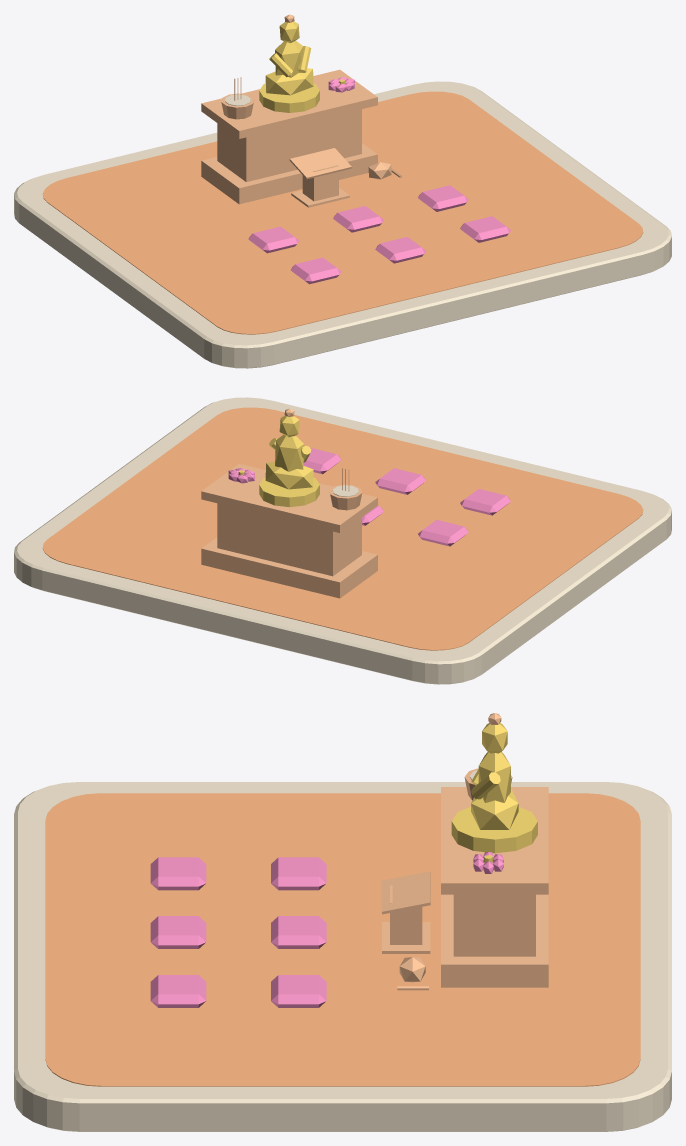
The picture shows the model from 3 angles, top to bottom: view 1: azimuth 30°, elevation 25°; view 2: azimuth 150°, elevation 25°; view 3: azimuth 270°, elevation 25°; orthographic projection. The views are drawn at different scales.
Visible parts, largest first — view 1: COM-02 Floor Surface, COM-01 Rounded Base Direct, Altar, Top, Base, Reading top, Lotus base, Folded legs, Body, Meditation cushion, Meditation cushion.005, Meditation cushion.001 (+4 smaller); view 2: COM-02 Floor Surface, COM-01 Rounded Base Direct, Altar, Top, Base, Lotus base, Folded legs, Robe torso, Meditation cushion.004, Meditation cushion, Meditation cushion.003, Meditation cushion.005 (+1 smaller); view 3: COM-02 Floor Surface, COM-01 Rounded Base Direct, Top, Altar, Base, Lotus base, Meditation cushion.003, Meditation cushion, Meditation cushion.004, Meditation cushion.005, Meditation cushion.001, Meditation cushion.002 (+6 smaller).
Boxes of the visible parts, <box> form: COM-02 Floor Surface: <box>42,91,643,334</box>; COM-01 Rounded Base Direct: <box>14,81,671,368</box>; Altar: <box>217,109,361,181</box>; Top: <box>201,69,377,138</box>; Base: <box>201,143,377,204</box>; Reading top: <box>289,148,351,179</box>; Lotus base: <box>259,83,319,112</box>; Folded legs: <box>265,68,313,95</box>; Body: <box>302,165,338,201</box>; Meditation cushion: <box>248,226,299,253</box>; Meditation cushion.005: <box>460,216,510,242</box>; Meditation cushion.001: <box>333,206,383,232</box>; COM-02 Floor Surface: <box>42,407,643,650</box>; COM-01 Rounded Base Direct: <box>14,397,671,684</box>; Altar: <box>217,503,361,576</box>; Top: <box>201,463,377,532</box>; Base: <box>201,537,377,598</box>; Lotus base: <box>259,477,319,507</box>; Folded legs: <box>265,462,313,489</box>; Robe torso: <box>275,435,304,471</box>; Meditation cushion.004: <box>375,468,426,494</box>; Meditation cushion: <box>418,519,468,546</box>; Meditation cushion.003: <box>460,489,510,515</box>; Meditation cushion.005: <box>303,447,341,474</box>; COM-02 Floor Surface: <box>45,793,640,1086</box>; COM-01 Rounded Base Direct: <box>14,782,671,1131</box>; Top: <box>441,787,548,894</box>; Altar: <box>453,894,535,956</box>; Base: <box>441,894,548,987</box>; Lotus base: <box>451,807,537,853</box>; Meditation cushion.003: <box>150,857,206,890</box>; Meditation cushion: <box>271,857,326,890</box>; Meditation cushion.004: <box>150,916,206,948</box>; Meditation cushion.005: <box>150,975,206,1007</box>; Meditation cushion.001: <box>271,916,326,948</box>; Meditation cushion.002: <box>271,975,326,1007</box>.
Size of the model in its own units: 6 by 2.27 by 5.2.
1 material, 1 textured.
